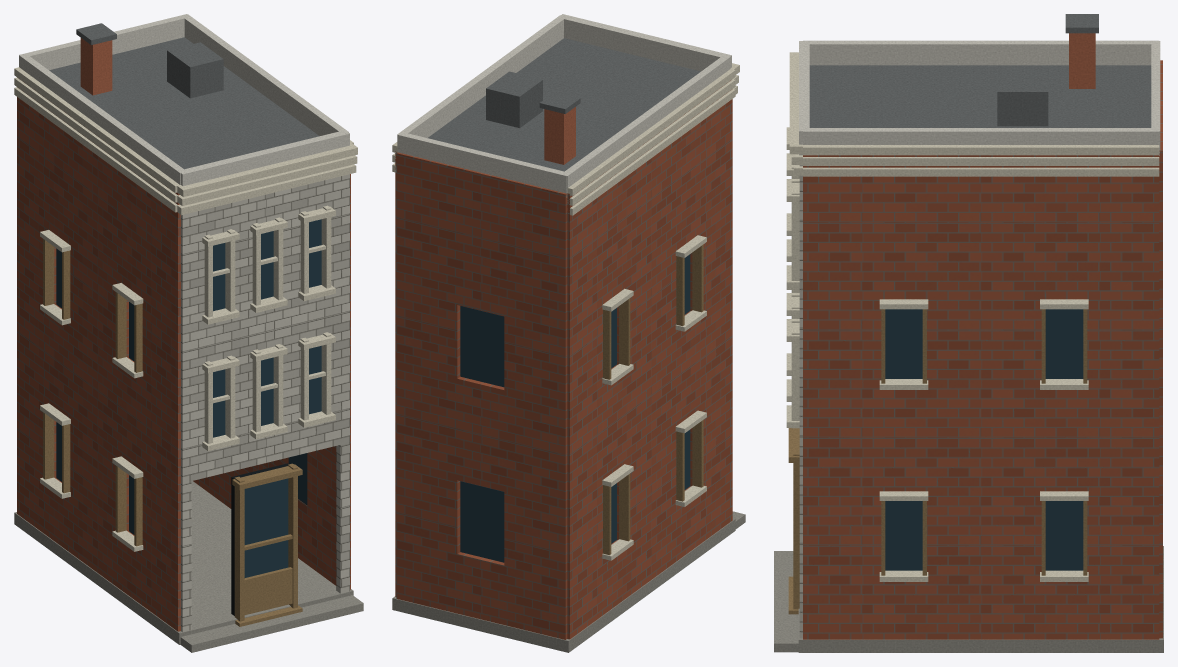
Rendered from OFFC19_lod2.glb.
3 views of the same model, side by side, from view 1: azimuth 30°, elevation 25°; view 2: azimuth 150°, elevation 25°; view 3: azimuth 270°, elevation 25° (orthographic). The views are drawn at different scales.
Parts seen in each view (by area): view 1: OFFC19_LOD2; view 2: OFFC19_LOD2; view 3: OFFC19_LOD2.
Part boxes in pixels (<box>): OFFC19_LOD2: <box>14,14,363,652</box>; OFFC19_LOD2: <box>392,14,745,652</box>; OFFC19_LOD2: <box>774,14,1163,652</box>.
Bounding box in the file's own units: 4.11 × 10.45 × 6.57.
Materials: 10 (8 with a texture image).
